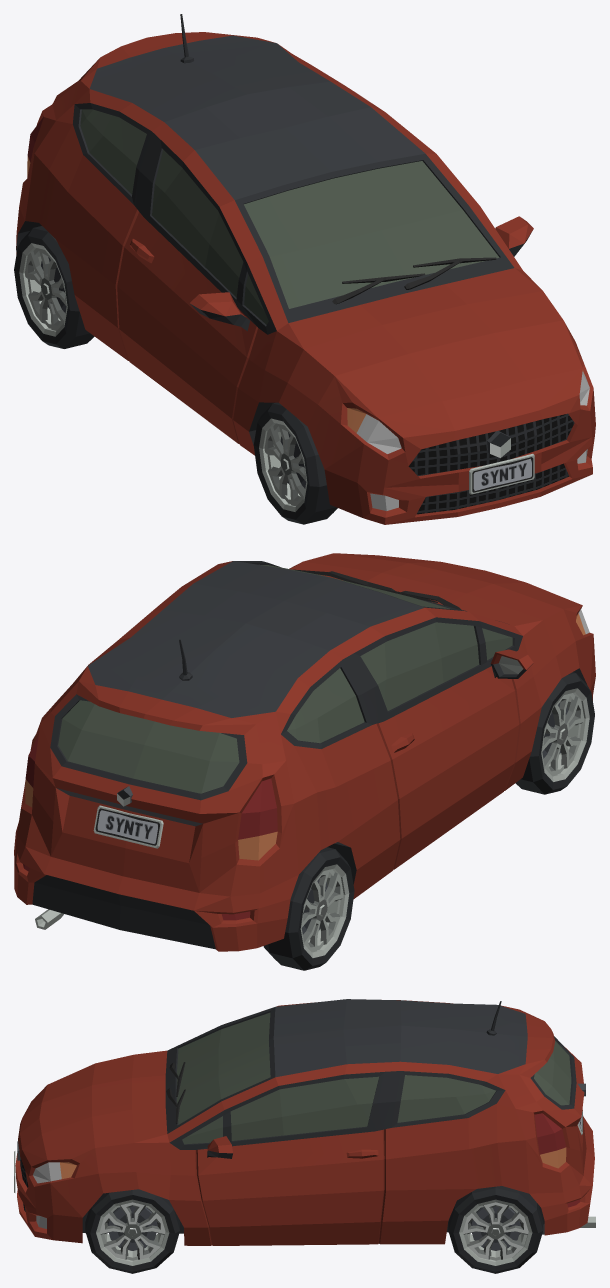
File: car.fbx
3 views of the same model, one above another, from view 1: azimuth 30°, elevation 25°; view 2: azimuth 150°, elevation 25°; view 3: azimuth 270°, elevation 25° (orthographic). The views are drawn at different scales.
Visible parts, largest first — view 1: SM_PolygonCity_Veh_Car_Small_01, SM_PolygonCity_Veh_Car_Small_Glass, SM_PolygonCity_Veh_Car_Small_Wheel_fr, SM_PolygonCity_Veh_Car_Small_Wheel_rr, SM_PolygonCity_Veh_Car_Small_Plates; view 2: SM_PolygonCity_Veh_Car_Small_01, SM_PolygonCity_Veh_Car_Small_Glass, SM_PolygonCity_Veh_Car_Small_Wheel_rr, SM_PolygonCity_Veh_Car_Small_Wheel_fr, SM_PolygonCity_Veh_Car_Small_Plates; view 3: SM_PolygonCity_Veh_Car_Small_01, SM_PolygonCity_Veh_Car_Small_Glass, SM_PolygonCity_Veh_Car_Small_Wheel_rl, SM_PolygonCity_Veh_Car_Small_Wheel_fl.
Boxes of the visible parts, x1=… form: SM_PolygonCity_Veh_Car_Small_01: x1=16, y1=14, x2=595, y2=524; SM_PolygonCity_Veh_Car_Small_Glass: x1=80, y1=109, x2=499, y2=324; SM_PolygonCity_Veh_Car_Small_Wheel_fr: x1=253, y1=402, x2=337, y2=524; SM_PolygonCity_Veh_Car_Small_Wheel_rr: x1=14, y1=226, x2=94, y2=348; SM_PolygonCity_Veh_Car_Small_Plates: x1=469, y1=453, x2=534, y2=494; SM_PolygonCity_Veh_Car_Small_01: x1=14, y1=553, x2=595, y2=951; SM_PolygonCity_Veh_Car_Small_Glass: x1=58, y1=564, x2=512, y2=793; SM_PolygonCity_Veh_Car_Small_Wheel_rr: x1=263, y1=847, x2=354, y2=970; SM_PolygonCity_Veh_Car_Small_Wheel_fr: x1=515, y1=672, x2=594, y2=794; SM_PolygonCity_Veh_Car_Small_Plates: x1=93, y1=805, x2=163, y2=848; SM_PolygonCity_Veh_Car_Small_01: x1=15, y1=999, x2=595, y2=1245; SM_PolygonCity_Veh_Car_Small_Glass: x1=177, y1=1012, x2=571, y2=1144; SM_PolygonCity_Veh_Car_Small_Wheel_rl: x1=448, y1=1186, x2=543, y2=1273; SM_PolygonCity_Veh_Car_Small_Wheel_fl: x1=85, y1=1189, x2=179, y2=1273.
Bounding box in the file's own units: 207 × 173 × 408.
Materials: 4 (4 with a texture image).
